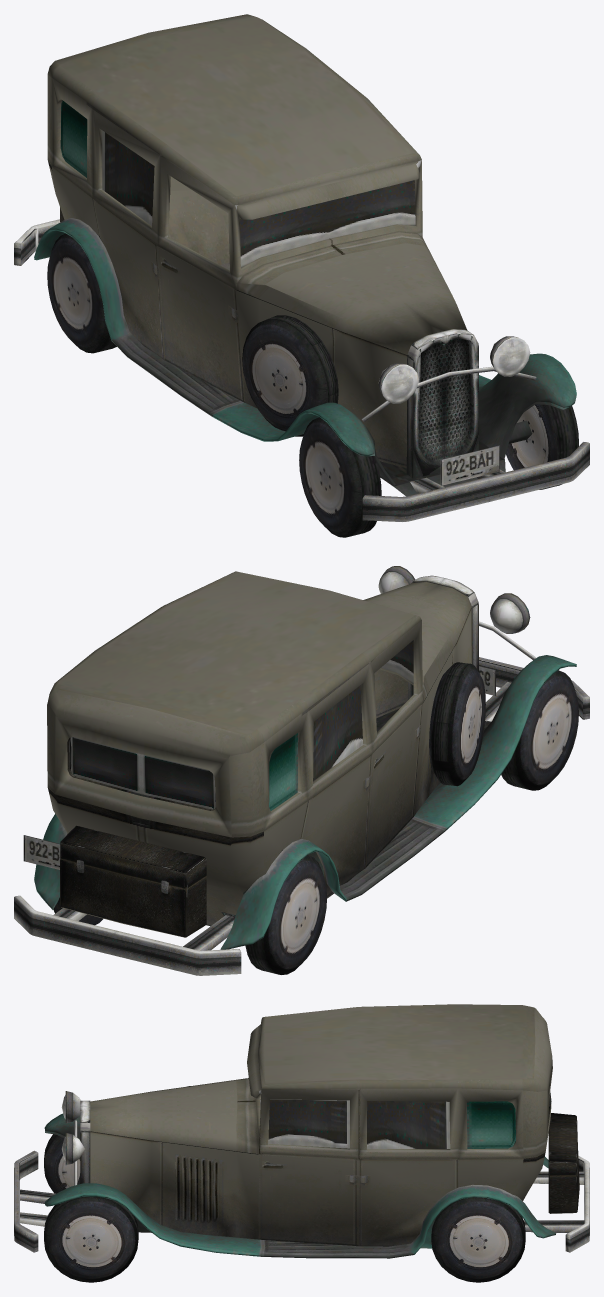
File: Old_timer.obj
The picture shows the model from 3 angles, top to bottom: view 1: azimuth 30°, elevation 25°; view 2: azimuth 150°, elevation 25°; view 3: azimuth 270°, elevation 25°; orthographic projection. The views are drawn at different scales.
Bounding box in the file's own units: 3.34 × 3.45 × 8.85.
Materials: 2 (2 with a texture image).
